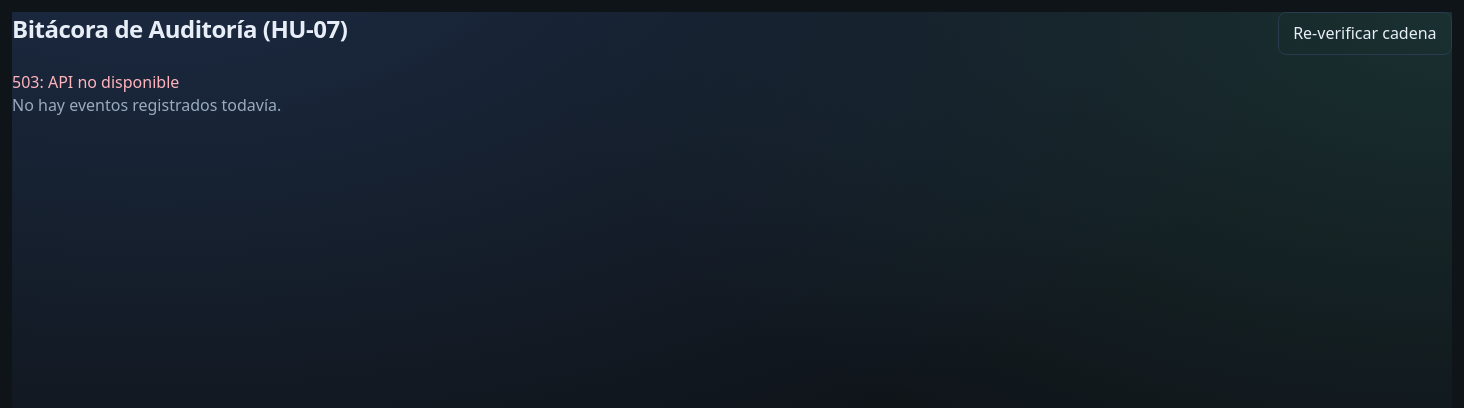
AuditLog › shows API errors and lets the user retry verification
Expected: the text "503: API no disponible" is shown, [12,71,179,93]
Click the button "Re-verificar cadena" at (1365, 33), box [1278,12,1452,55]
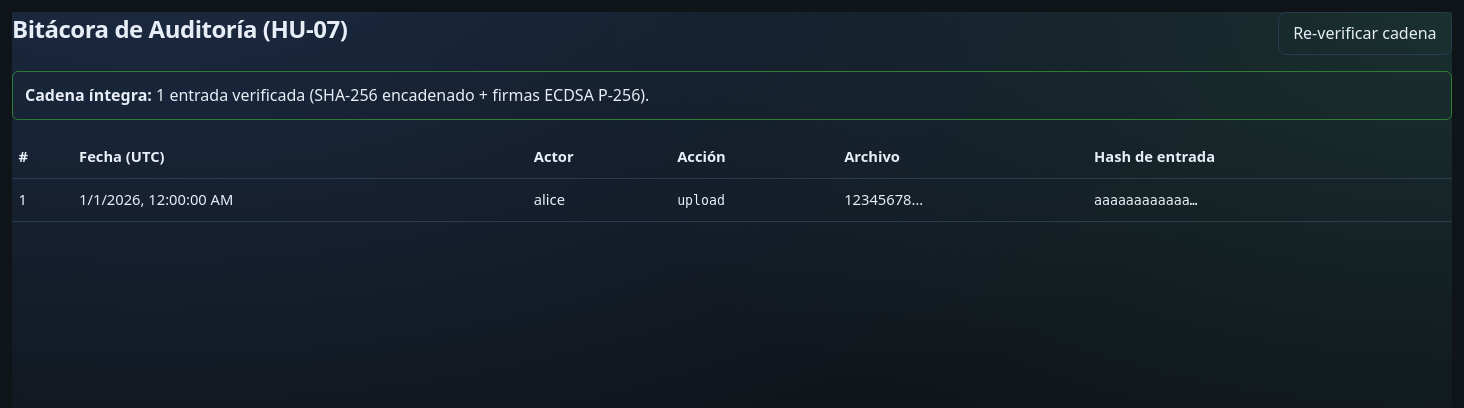
Now the message shows "1 entrada verificada", box [12,71,1452,120]
